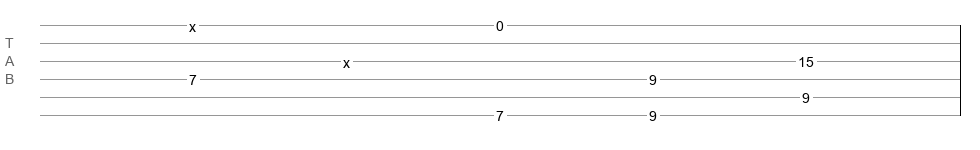0: (496, 18, 504, 28)
15: (798, 54, 814, 64)
7: (189, 72, 197, 82), (496, 108, 504, 118)
9: (649, 72, 657, 82), (649, 108, 657, 118), (802, 90, 810, 100)
x: (189, 19, 196, 27), (343, 55, 350, 63)
